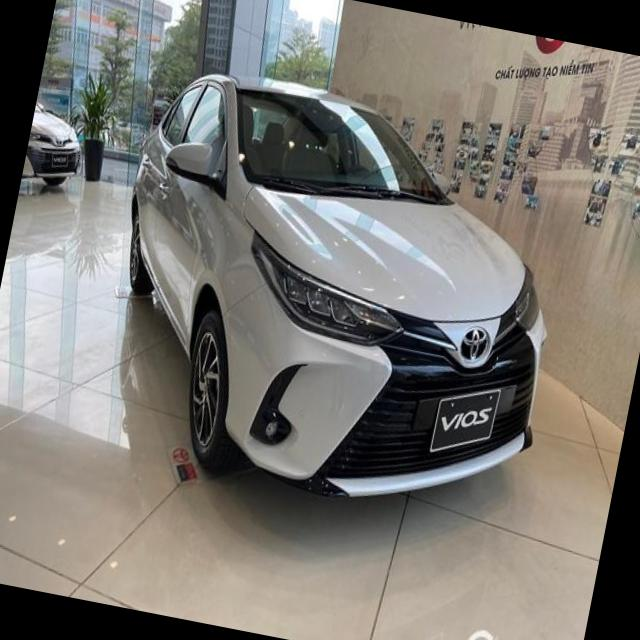ToyotaVios: (79, 55, 592, 534)
